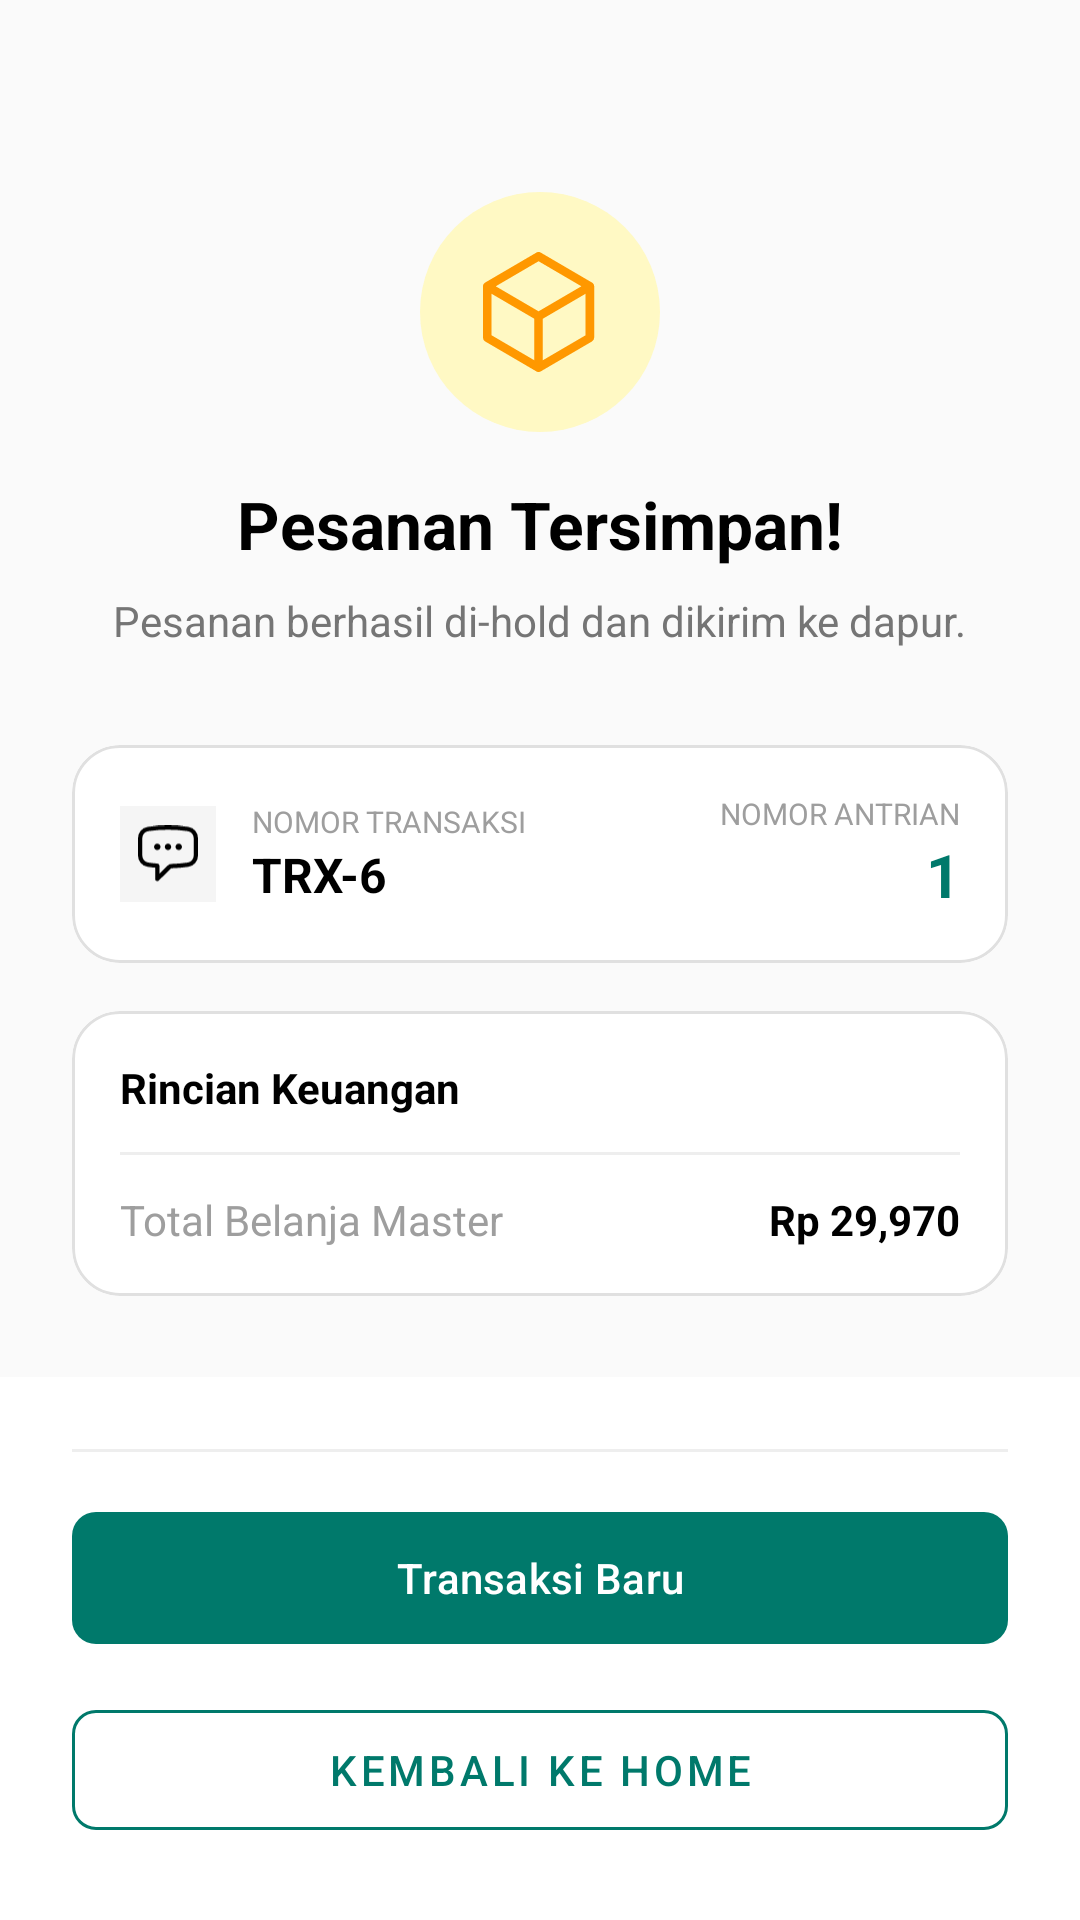

Icons on this 1080 × 1920 Android screen, each with the point to tap as point (x, y):
messages: point (168, 854)
stok: point (540, 312)
